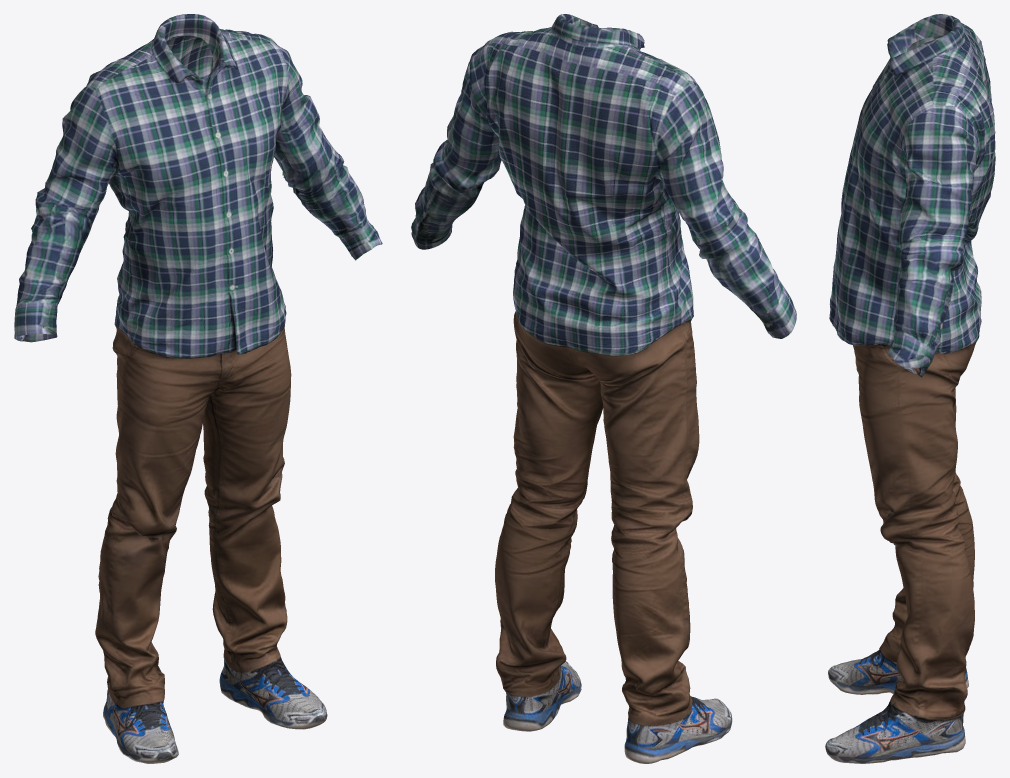
File: CasualOutfit.gltf
3 renders of one model, left to right at view 1: azimuth 30°, elevation 25°; view 2: azimuth 150°, elevation 25°; view 3: azimuth 270°, elevation 25°, orthographic. The views are drawn at different scales.
Visible parts, largest first — view 1: CasualOutfit; view 2: CasualOutfit; view 3: CasualOutfit.
Boxes of the visible parts, x1,y1,x2,y2 form: CasualOutfit: (14, 14, 382, 763); CasualOutfit: (411, 14, 796, 763); CasualOutfit: (825, 14, 995, 763).
Bounding box in the file's own units: 0.8848 × 1.6 × 0.3536.
1 material, 1 textured.
